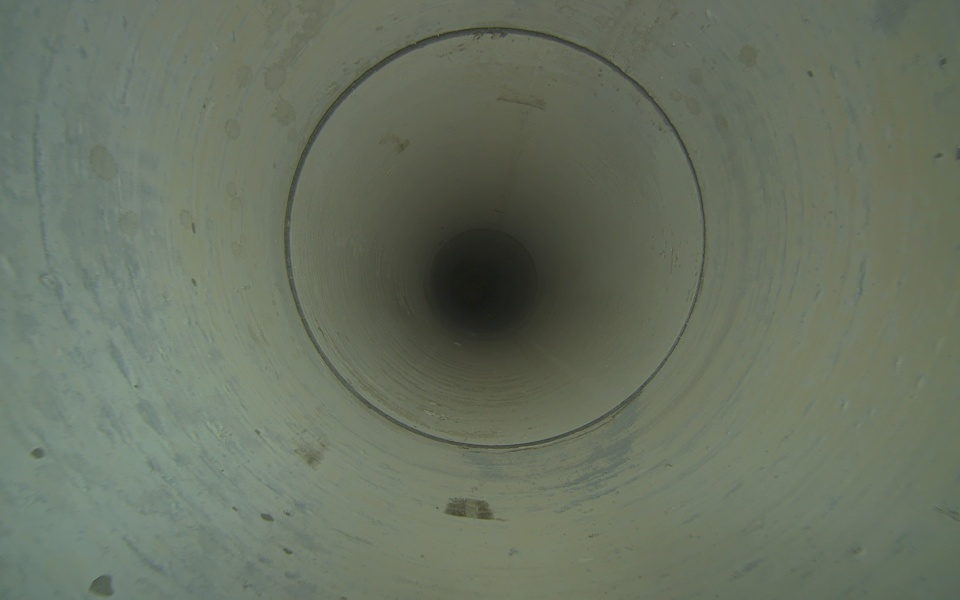circle1: (278, 29, 710, 455)
circle2: (434, 228, 535, 331)
